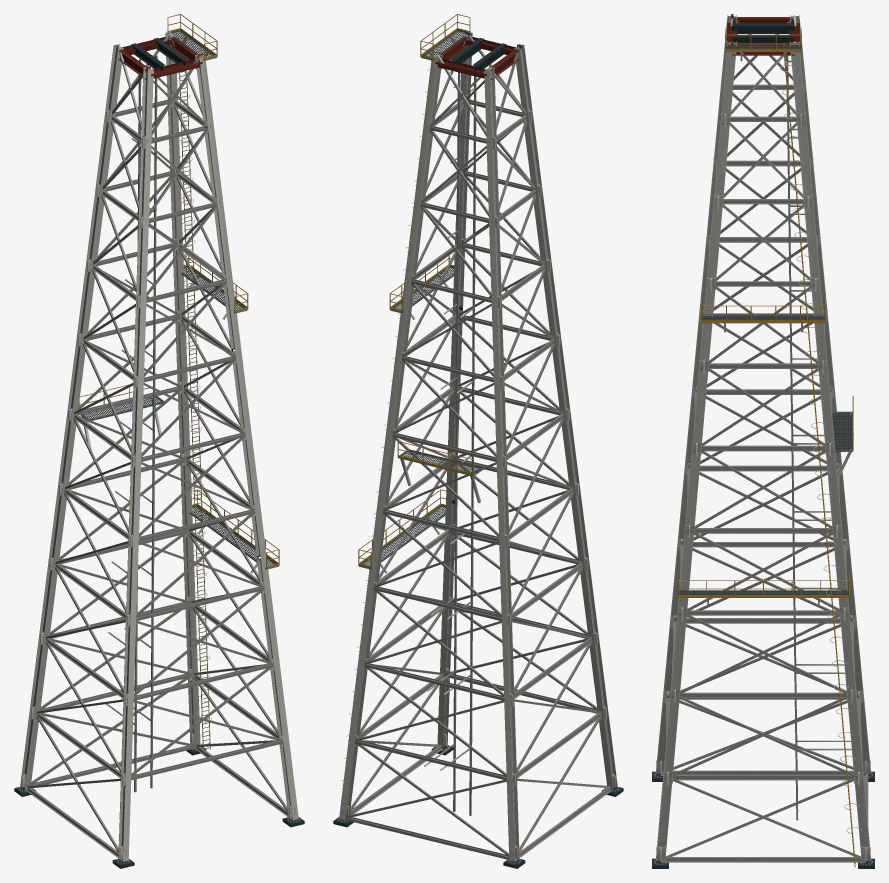
The model's file is offshore_derrick_lodh.glb.
3 views of the same model, side by side, from view 1: azimuth 30°, elevation 25°; view 2: azimuth 150°, elevation 25°; view 3: azimuth 270°, elevation 25° (orthographic). The views are drawn at different scales.
Visible parts, largest first — view 1: main_legs_ivory, diagonal_bracing_ivory, horizontal_girts_ivory, top_drive_guide_rails_steel, splice_plates_and_fasteners_ivory, access_platforms_steel, crown_support_frame_oxide, access_platforms_yellow, ladder_and_safety_cage_yellow, ladder_and_safety_cage_steel, crown_support_frame_dark, racking_platform_structure_steel; view 2: main_legs_ivory, diagonal_bracing_ivory, horizontal_girts_ivory, top_drive_guide_rails_steel, access_platforms_steel, splice_plates_and_fasteners_ivory, crown_support_frame_oxide, access_platforms_yellow, top_drive_guide_rails_ivory, racking_platform_structure_steel, crown_support_frame_dark, ladder_and_safety_cage_yellow; view 3: main_legs_ivory, diagonal_bracing_ivory, horizontal_girts_ivory, splice_plates_and_fasteners_ivory, access_platforms_yellow, access_platforms_steel, top_drive_guide_rails_steel, ladder_and_safety_cage_yellow, crown_support_frame_dark, crown_support_frame_oxide, top_drive_guide_rails_ivory, ladder_and_safety_cage_ivory (+1 smaller).
Part boxes in pixels (x1=…): main_legs_ivory: x1=20, y1=31, x2=298, y2=861; diagonal_bracing_ivory: x1=27, y1=33, x2=292, y2=859; horizontal_girts_ivory: x1=26, y1=99, x2=292, y2=860; top_drive_guide_rails_steel: x1=134, y1=55, x2=157, y2=792; splice_plates_and_fasteners_ivory: x1=21, y1=94, x2=295, y2=858; access_platforms_steel: x1=171, y1=30, x2=278, y2=569; crown_support_frame_oxide: x1=116, y1=36, x2=202, y2=79; access_platforms_yellow: x1=167, y1=14, x2=279, y2=568; ladder_and_safety_cage_yellow: x1=178, y1=35, x2=210, y2=749; ladder_and_safety_cage_steel: x1=180, y1=38, x2=209, y2=749; crown_support_frame_dark: x1=131, y1=38, x2=187, y2=70; racking_platform_structure_steel: x1=80, y1=396, x2=164, y2=420; main_legs_ivory: x1=339, y1=31, x2=617, y2=861; diagonal_bracing_ivory: x1=346, y1=33, x2=610, y2=859; horizontal_girts_ivory: x1=345, y1=99, x2=611, y2=860; top_drive_guide_rails_steel: x1=453, y1=72, x2=476, y2=815; access_platforms_steel: x1=359, y1=30, x2=465, y2=569; splice_plates_and_fasteners_ivory: x1=342, y1=94, x2=616, y2=858; crown_support_frame_oxide: x1=435, y1=36, x2=521, y2=79; access_platforms_yellow: x1=358, y1=14, x2=470, y2=568; top_drive_guide_rails_ivory: x1=424, y1=83, x2=475, y2=770; racking_platform_structure_steel: x1=398, y1=449, x2=483, y2=476; crown_support_frame_dark: x1=450, y1=38, x2=506, y2=70; ladder_and_safety_cage_yellow: x1=339, y1=49, x2=440, y2=812; main_legs_ivory: x1=656, y1=14, x2=870, y2=861; diagonal_bracing_ivory: x1=661, y1=15, x2=866, y2=860; horizontal_girts_ivory: x1=661, y1=84, x2=868, y2=862; splice_plates_and_fasteners_ivory: x1=656, y1=81, x2=870, y2=860; access_platforms_yellow: x1=677, y1=28, x2=849, y2=597; access_platforms_steel: x1=677, y1=44, x2=849, y2=597; top_drive_guide_rails_steel: x1=786, y1=55, x2=798, y2=820; ladder_and_safety_cage_yellow: x1=783, y1=44, x2=855, y2=867; crown_support_frame_dark: x1=732, y1=23, x2=794, y2=42; crown_support_frame_oxide: x1=727, y1=17, x2=799, y2=55; top_drive_guide_rails_ivory: x1=788, y1=60, x2=851, y2=750; ladder_and_safety_cage_ivory: x1=780, y1=65, x2=861, y2=833.
Bounding box in the file's own units: 13.41 × 52.79 × 13.2.
8 materials, 8 textured.
